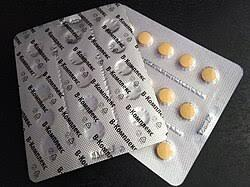pill_Strip: (124, 6, 242, 185), (66, 18, 147, 124), (14, 26, 67, 181), (54, 14, 112, 134), (93, 18, 142, 98), (102, 39, 150, 104), (143, 58, 206, 98), (72, 24, 104, 88), (52, 43, 69, 113), (167, 72, 205, 98), (81, 142, 116, 165), (197, 103, 220, 135), (98, 53, 114, 97), (96, 51, 111, 97), (97, 52, 111, 97), (97, 54, 110, 97), (27, 152, 44, 180), (99, 63, 112, 94), (54, 62, 64, 96), (197, 113, 213, 134), (156, 141, 174, 159), (179, 102, 197, 120), (201, 66, 218, 83), (157, 88, 174, 104), (178, 54, 195, 70), (165, 122, 183, 136), (157, 42, 173, 57), (137, 32, 152, 46)
